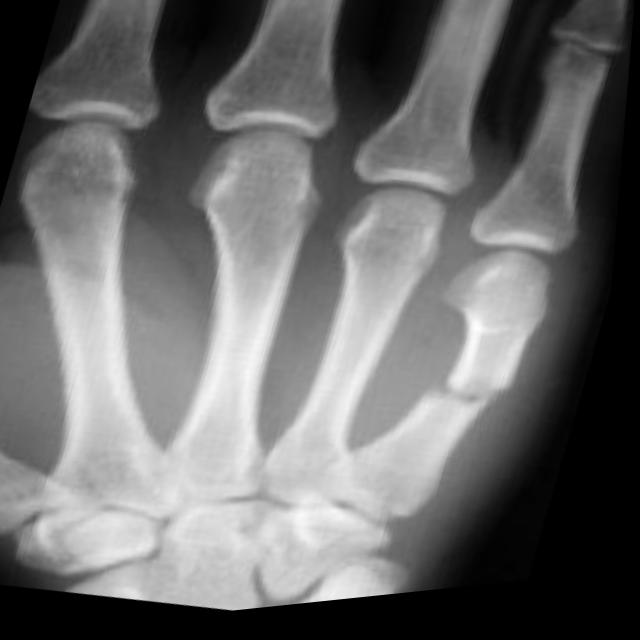fracture: (396, 361, 522, 440)
